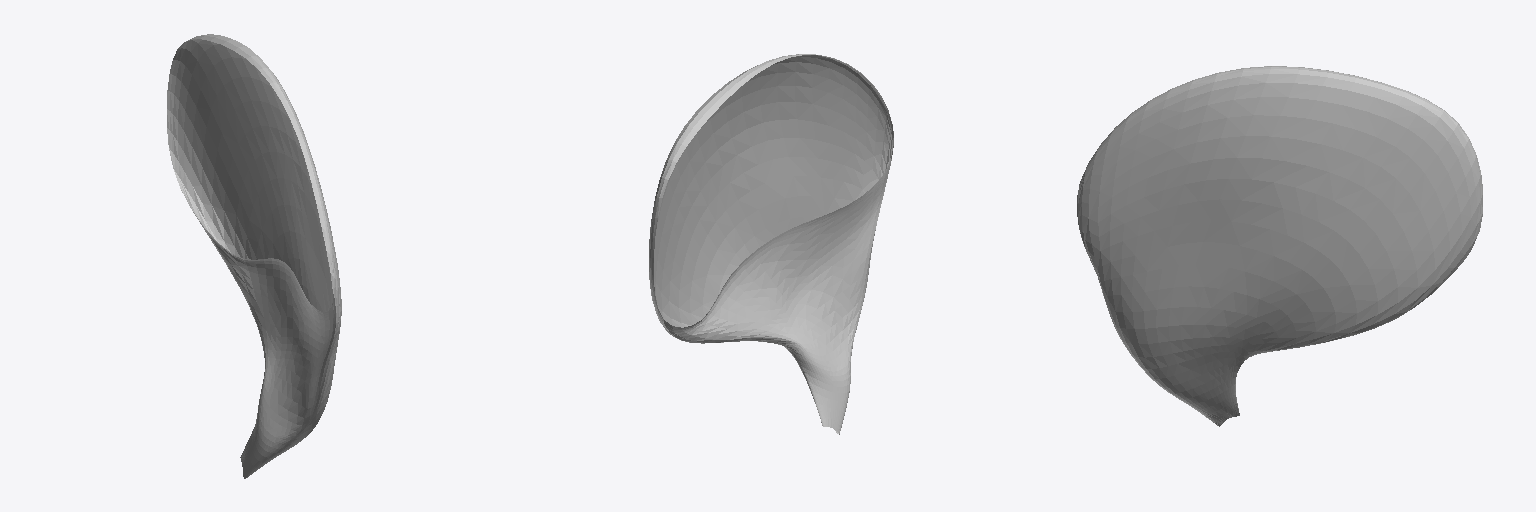
The model's file is temporalis_left.obj.
3 renders of one model, left to right at view 1: azimuth 30°, elevation 25°; view 2: azimuth 150°, elevation 25°; view 3: azimuth 270°, elevation 25°, orthographic.
Parts seen in each view (by area): view 1: Temporal_Muscle_Left; view 2: Temporal_Muscle_Left; view 3: Temporal_Muscle_Left.
Boxes of the visible parts, x1=… form: Temporal_Muscle_Left: x1=167, y1=34, x2=341, y2=478; Temporal_Muscle_Left: x1=649, y1=54, x2=893, y2=434; Temporal_Muscle_Left: x1=1077, y1=66, x2=1482, y2=426.
Bounding box in the file's own units: 0.3284 × 1.43 × 1.38.